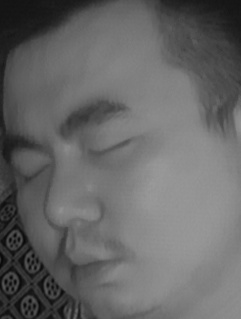blink: (89, 129, 137, 167), (12, 154, 52, 187)
mouth: (54, 237, 124, 291)
